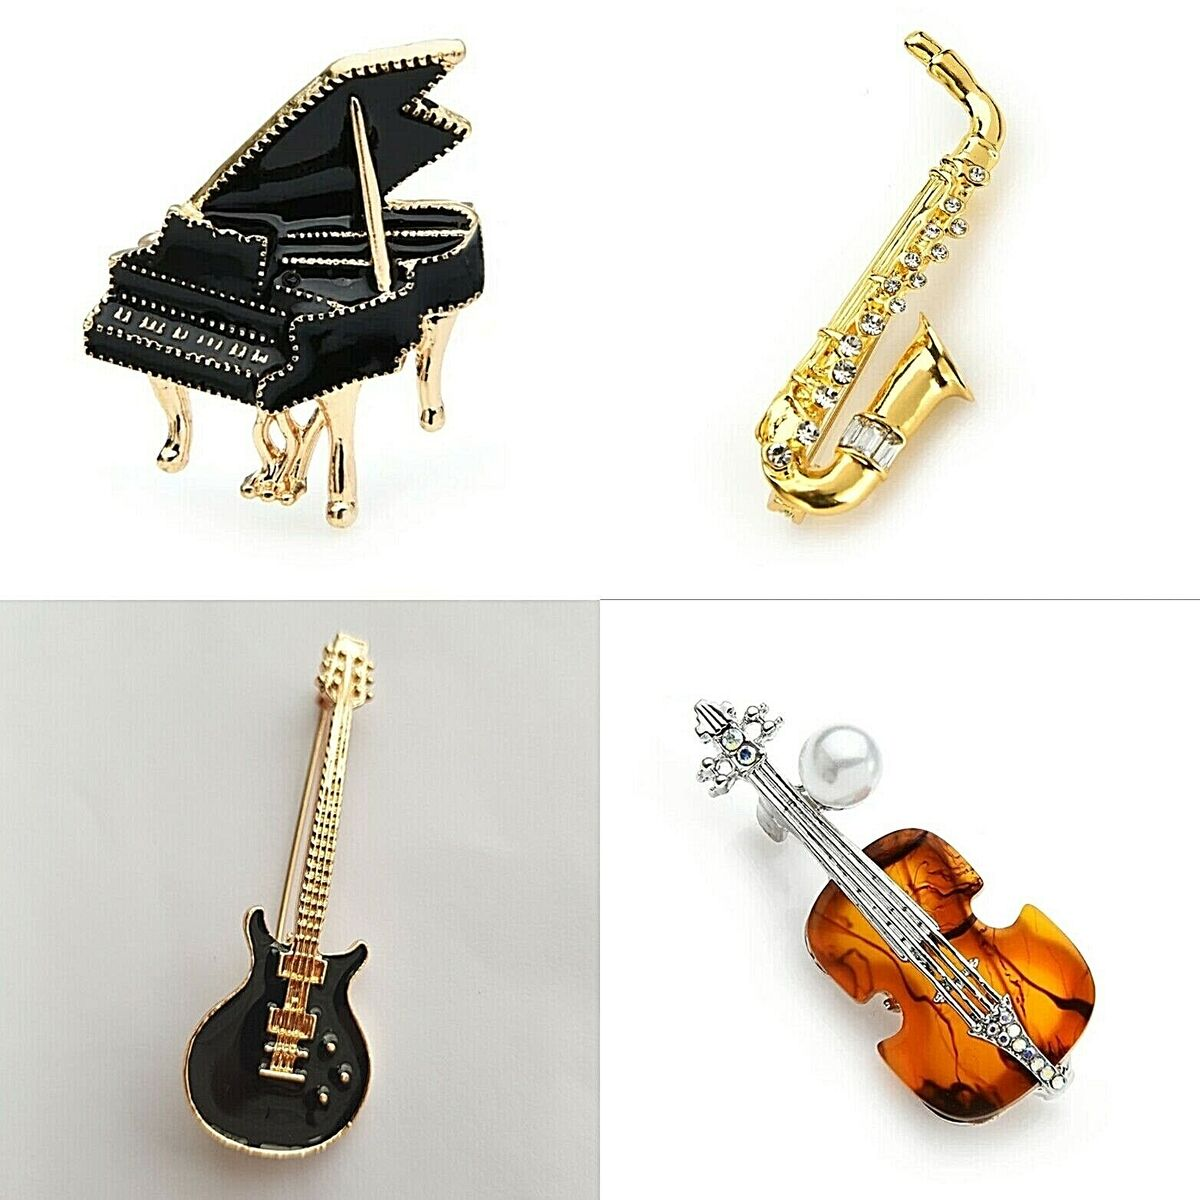Piano: (1, 27, 598, 603)
Saxophone: (662, 11, 1092, 587)
Violin: (629, 634, 1134, 1167)
